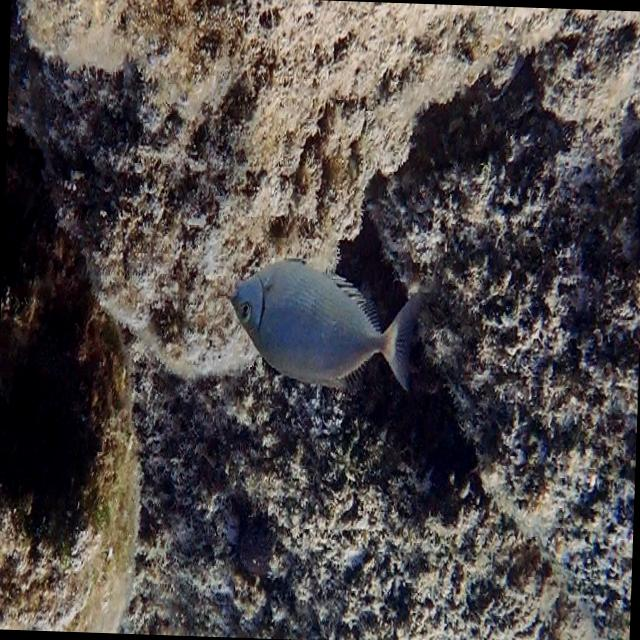Sokar Baligi: (222, 252, 428, 403)
